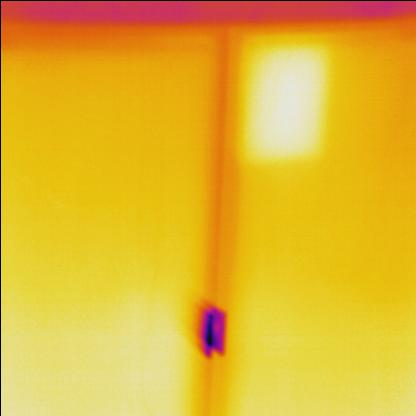hotspot: (238, 39, 335, 171)
